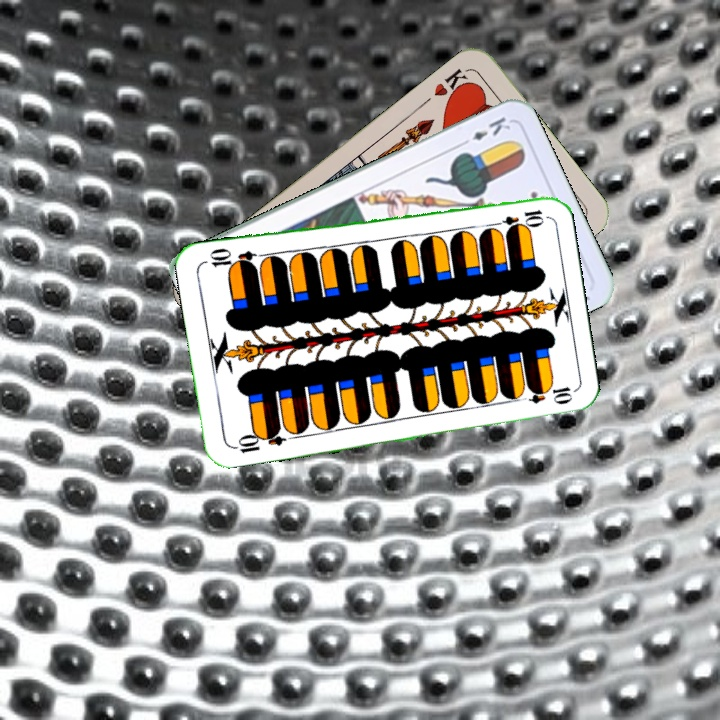E10: (228, 425, 287, 456), (487, 205, 547, 231)
EK: (456, 112, 513, 149)
HK: (429, 64, 475, 104)
